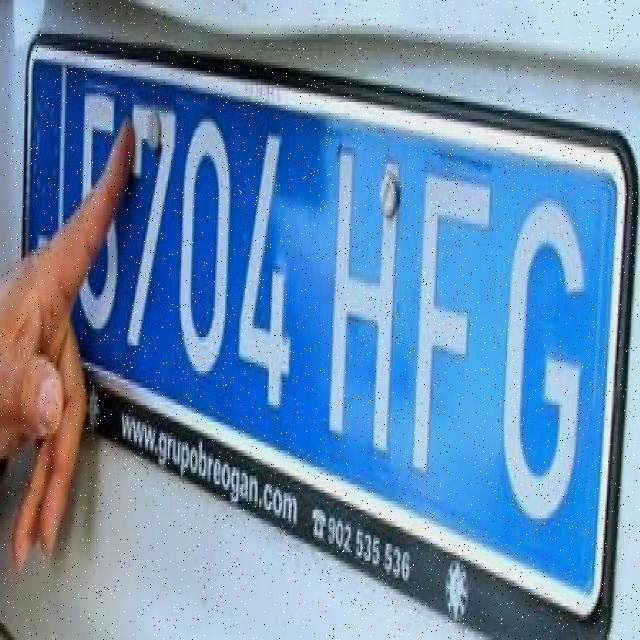LicensePlate: (22, 28, 636, 640)
